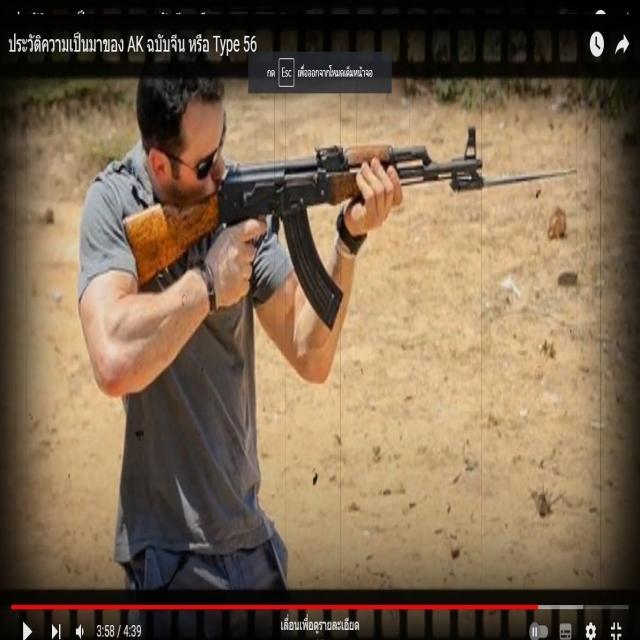ak: (122, 113, 486, 340)
